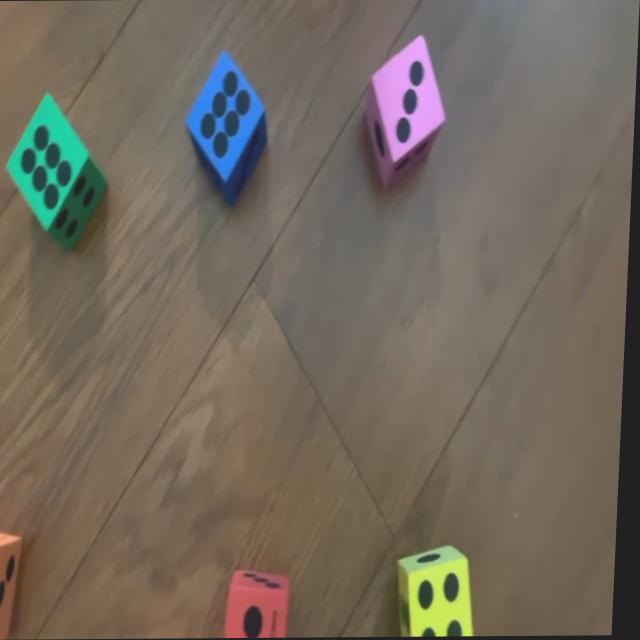blue_block: (185, 53, 270, 205)
red_block: (230, 565, 296, 639)
